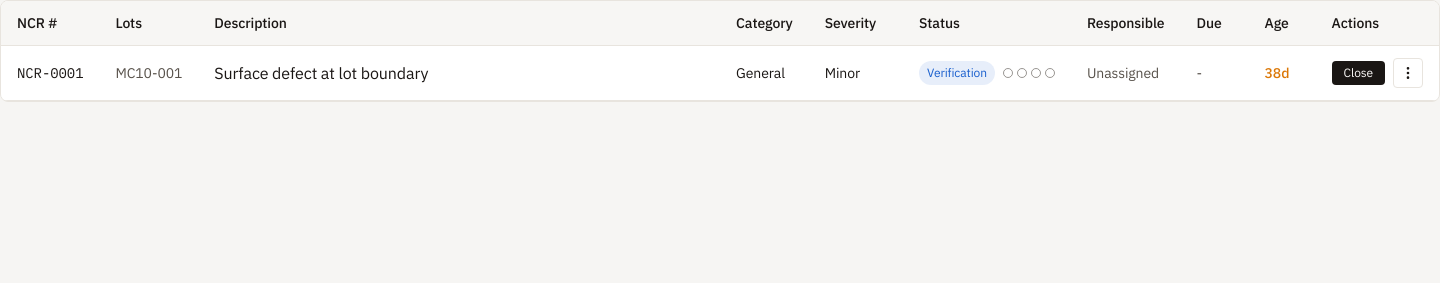
Test: NCRTable row actions › promotes Close once a verification-stage NCR needs no approval
Click the button "Close" at (1358, 73), box [1332,61,1385,85]
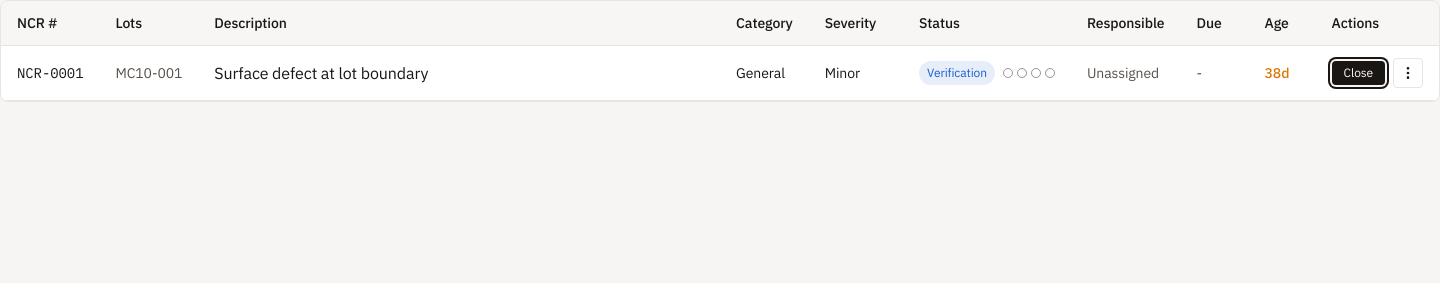
Click the button named "More actions for NCR NCR-0001" at (1408, 73), box [1393,58,1423,88]
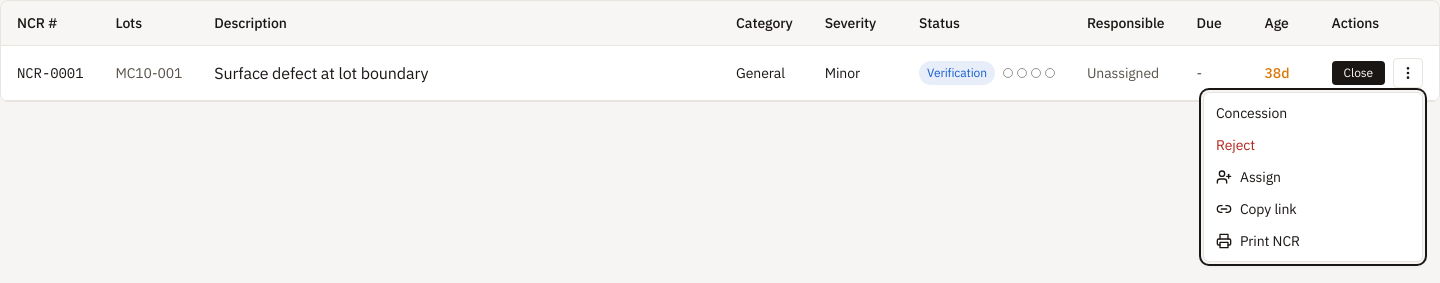
Expected: the menu item "Concession" is shown, [1216,104,1287,122]
Expected: the menu item "Reject" is shown, [1216,136,1255,154]
